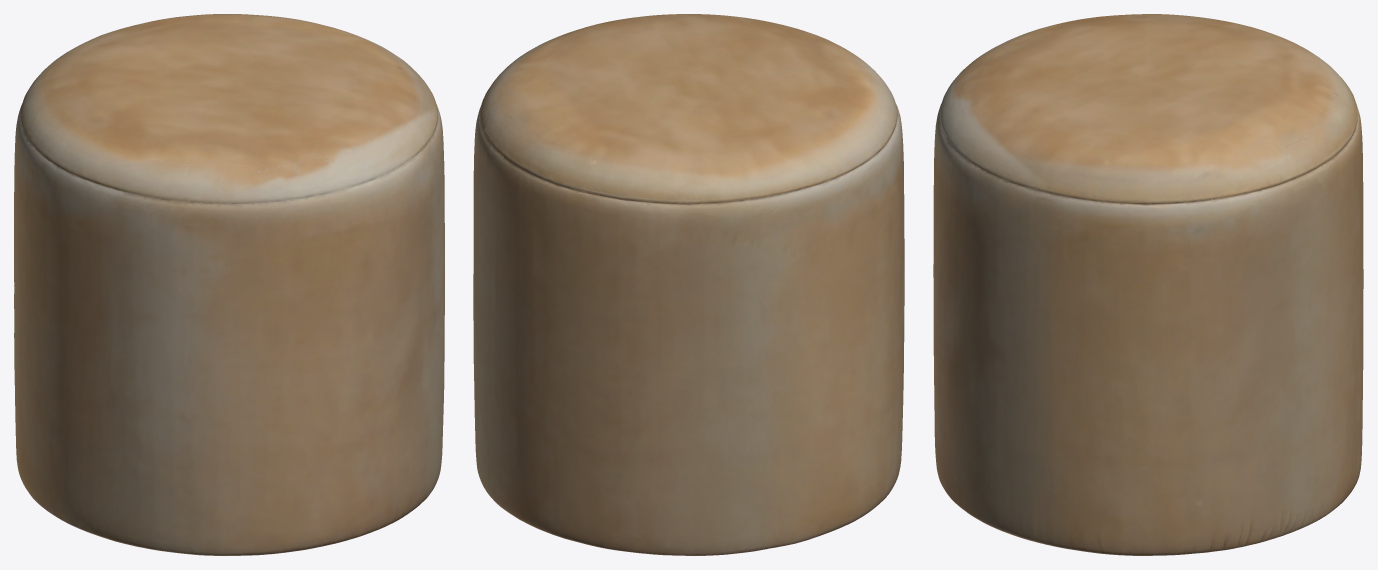
Rendered from pufe.glb.
The picture shows the model from 3 angles, left to right: view 1: azimuth 30°, elevation 25°; view 2: azimuth 150°, elevation 25°; view 3: azimuth 270°, elevation 25°; orthographic projection.
Size of the model in its own units: 1.98 by 1.99 by 1.98.
Materials: 1 (1 with a texture image).
